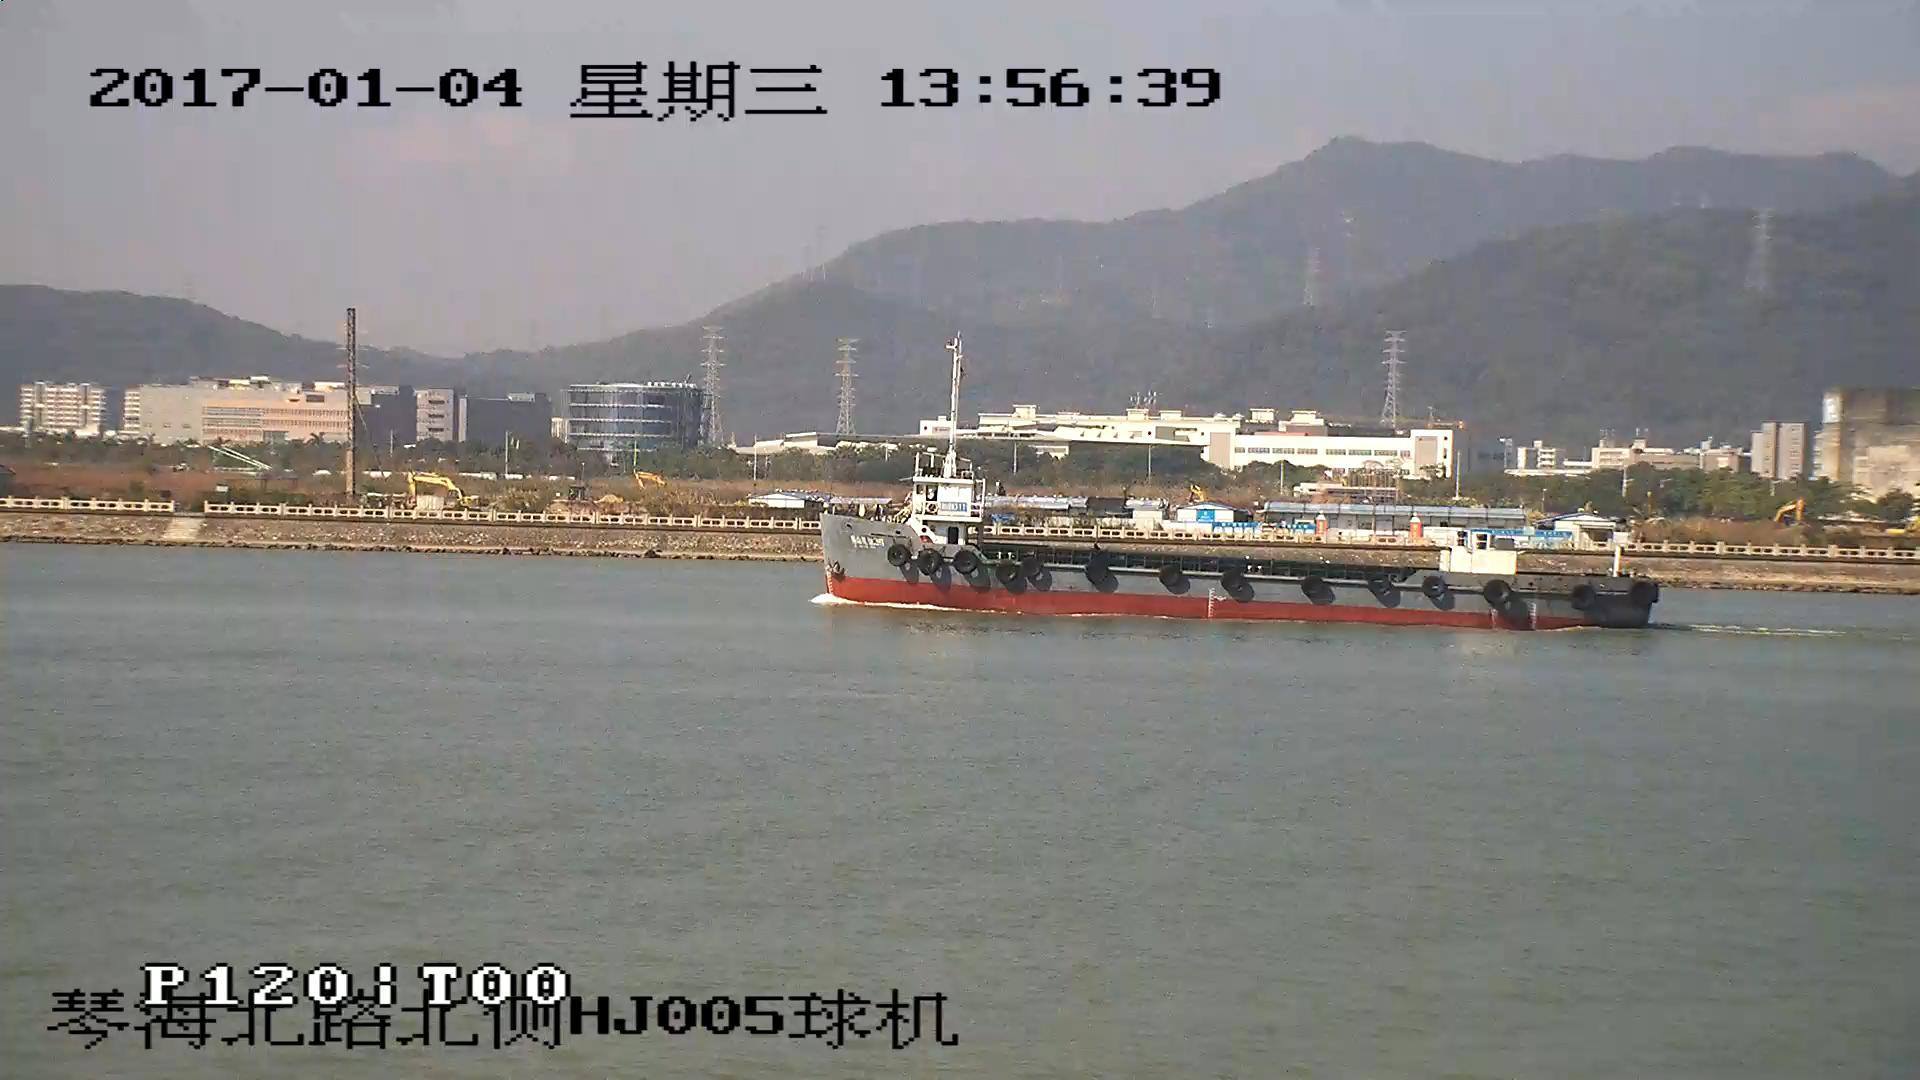Ship: (814, 472, 1662, 636)
